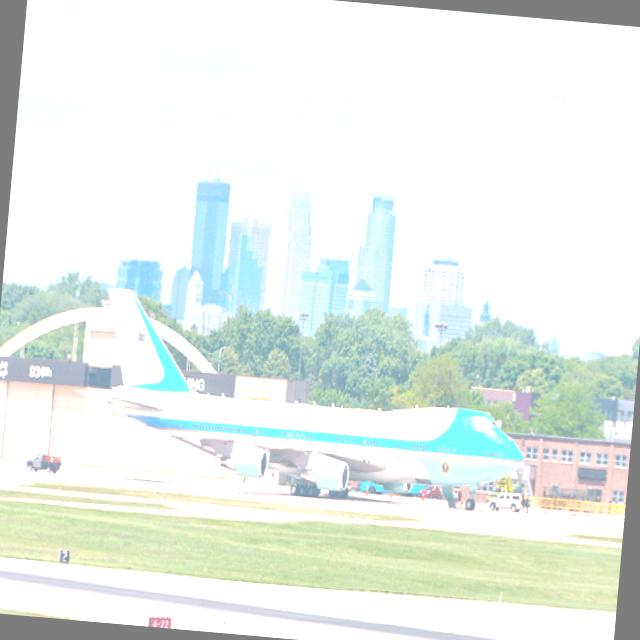Vehicle: (25, 450, 62, 474), (488, 490, 525, 513), (419, 484, 442, 499)
